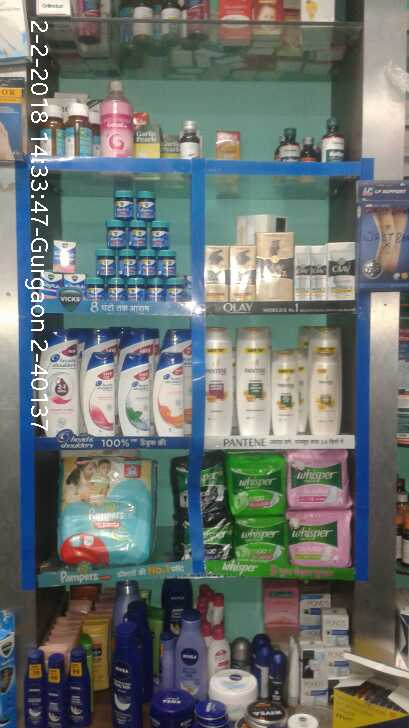vicks: (43, 187, 193, 305)
